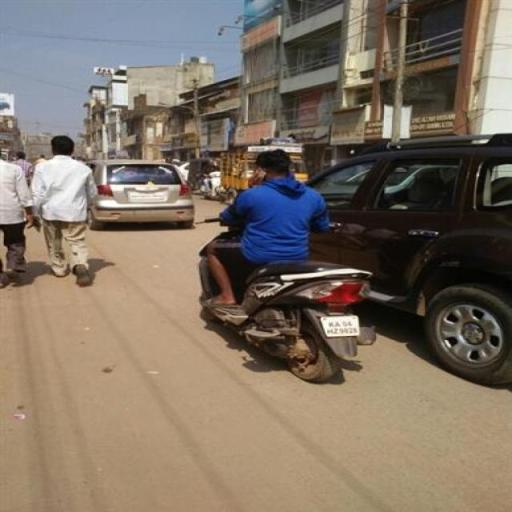using mobile: (248, 166, 270, 190)
